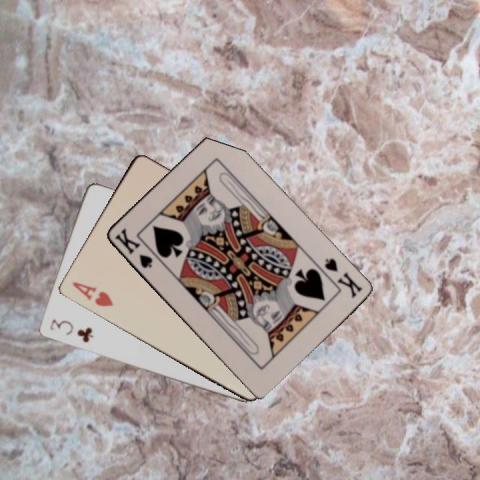3c: (46, 316, 95, 344)
Ah: (68, 278, 114, 308)
Ks: (112, 225, 154, 270), (321, 255, 363, 300)
